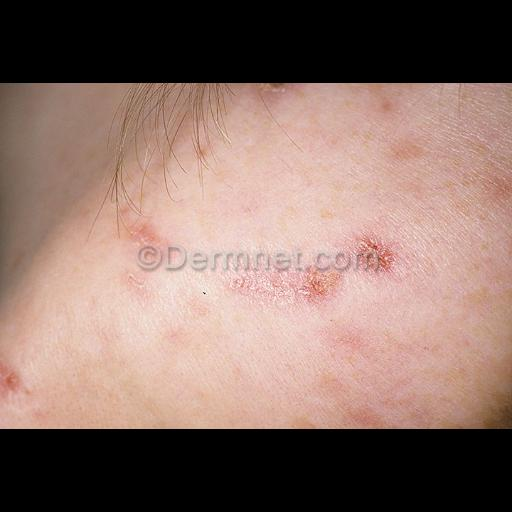Skin_Lesion: (318, 318, 414, 416), (348, 232, 396, 286), (289, 266, 345, 312), (128, 222, 172, 262), (0, 362, 30, 404)
